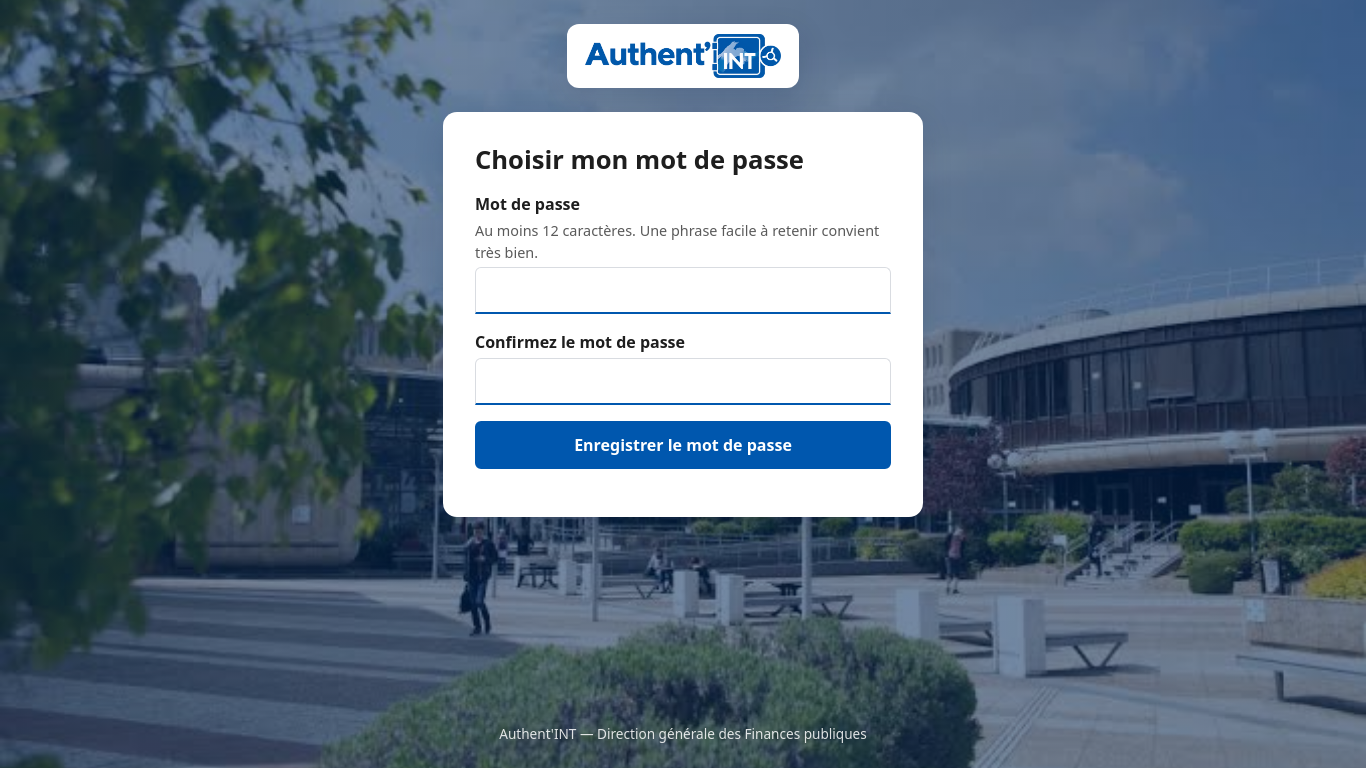
Test: choosing a password (activation) › maps a server-side 422 to our sentence
This screenshot has width=1366, height=768.
Type "une phrase de passe assez longue" into the password field labelled "Mot de passe" at (683, 291), box [475, 267, 891, 314]
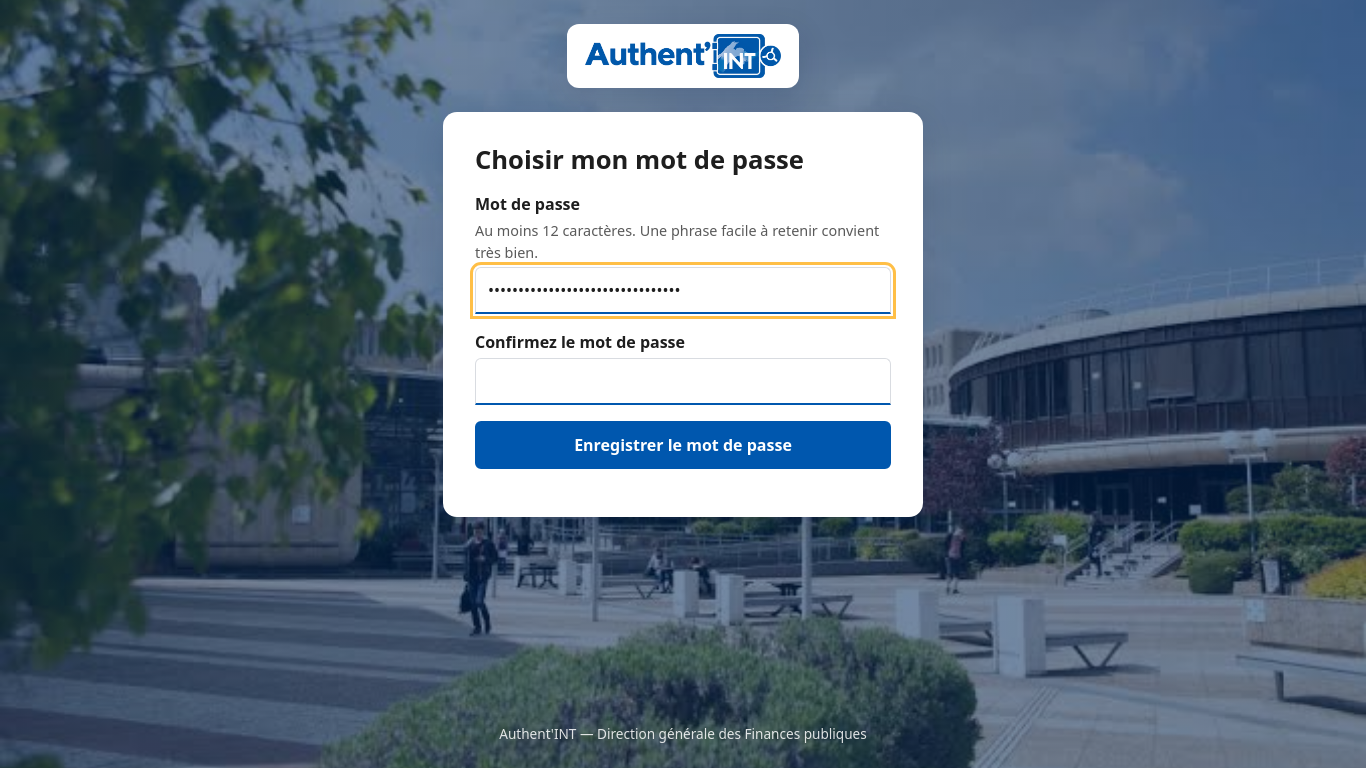
Type "une phrase de passe assez longue" into the password field labelled "Confirmez le mot de passe" at (683, 382), box [475, 358, 891, 405]
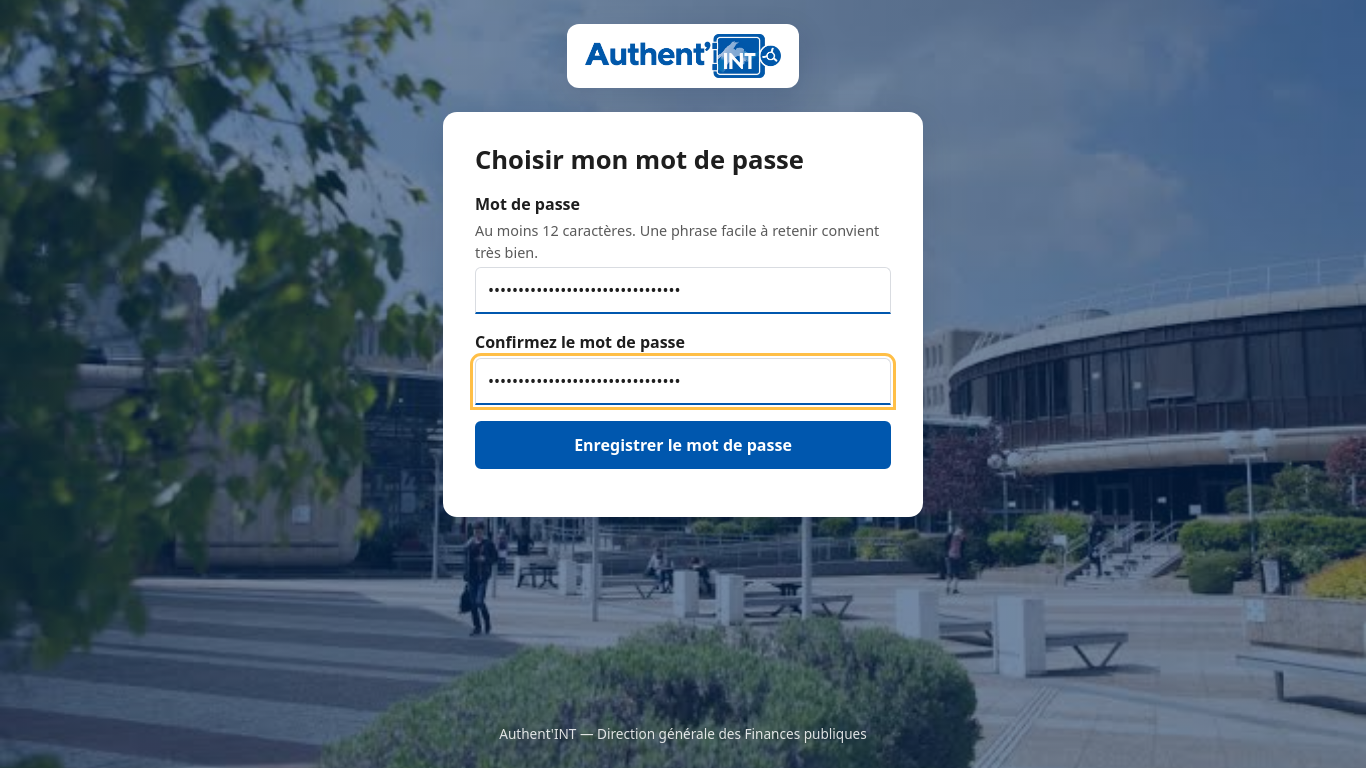
Click the button "Enregistrer le mot de passe" at (683, 445), box [475, 421, 891, 469]
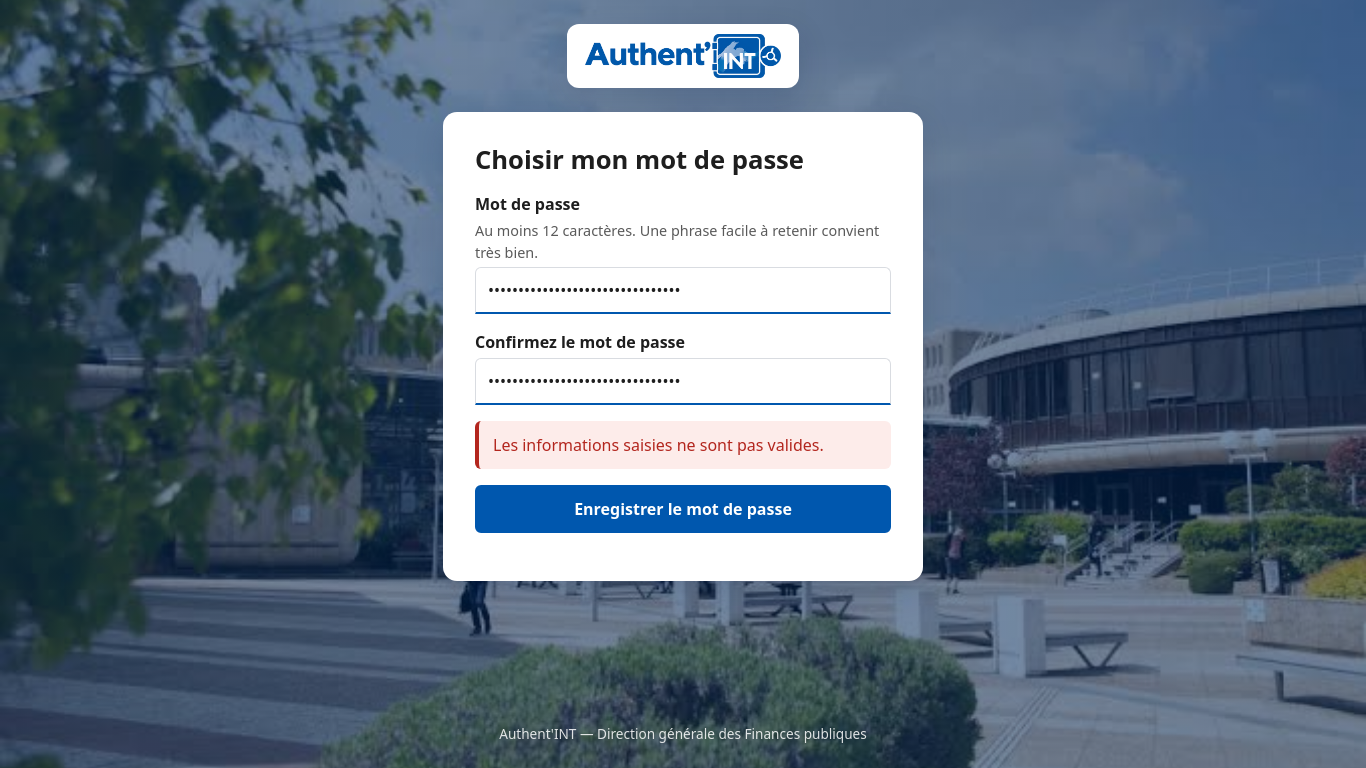
Expected: the message reads "Les informations saisies ne sont pas valides.", [493, 434, 824, 456]
